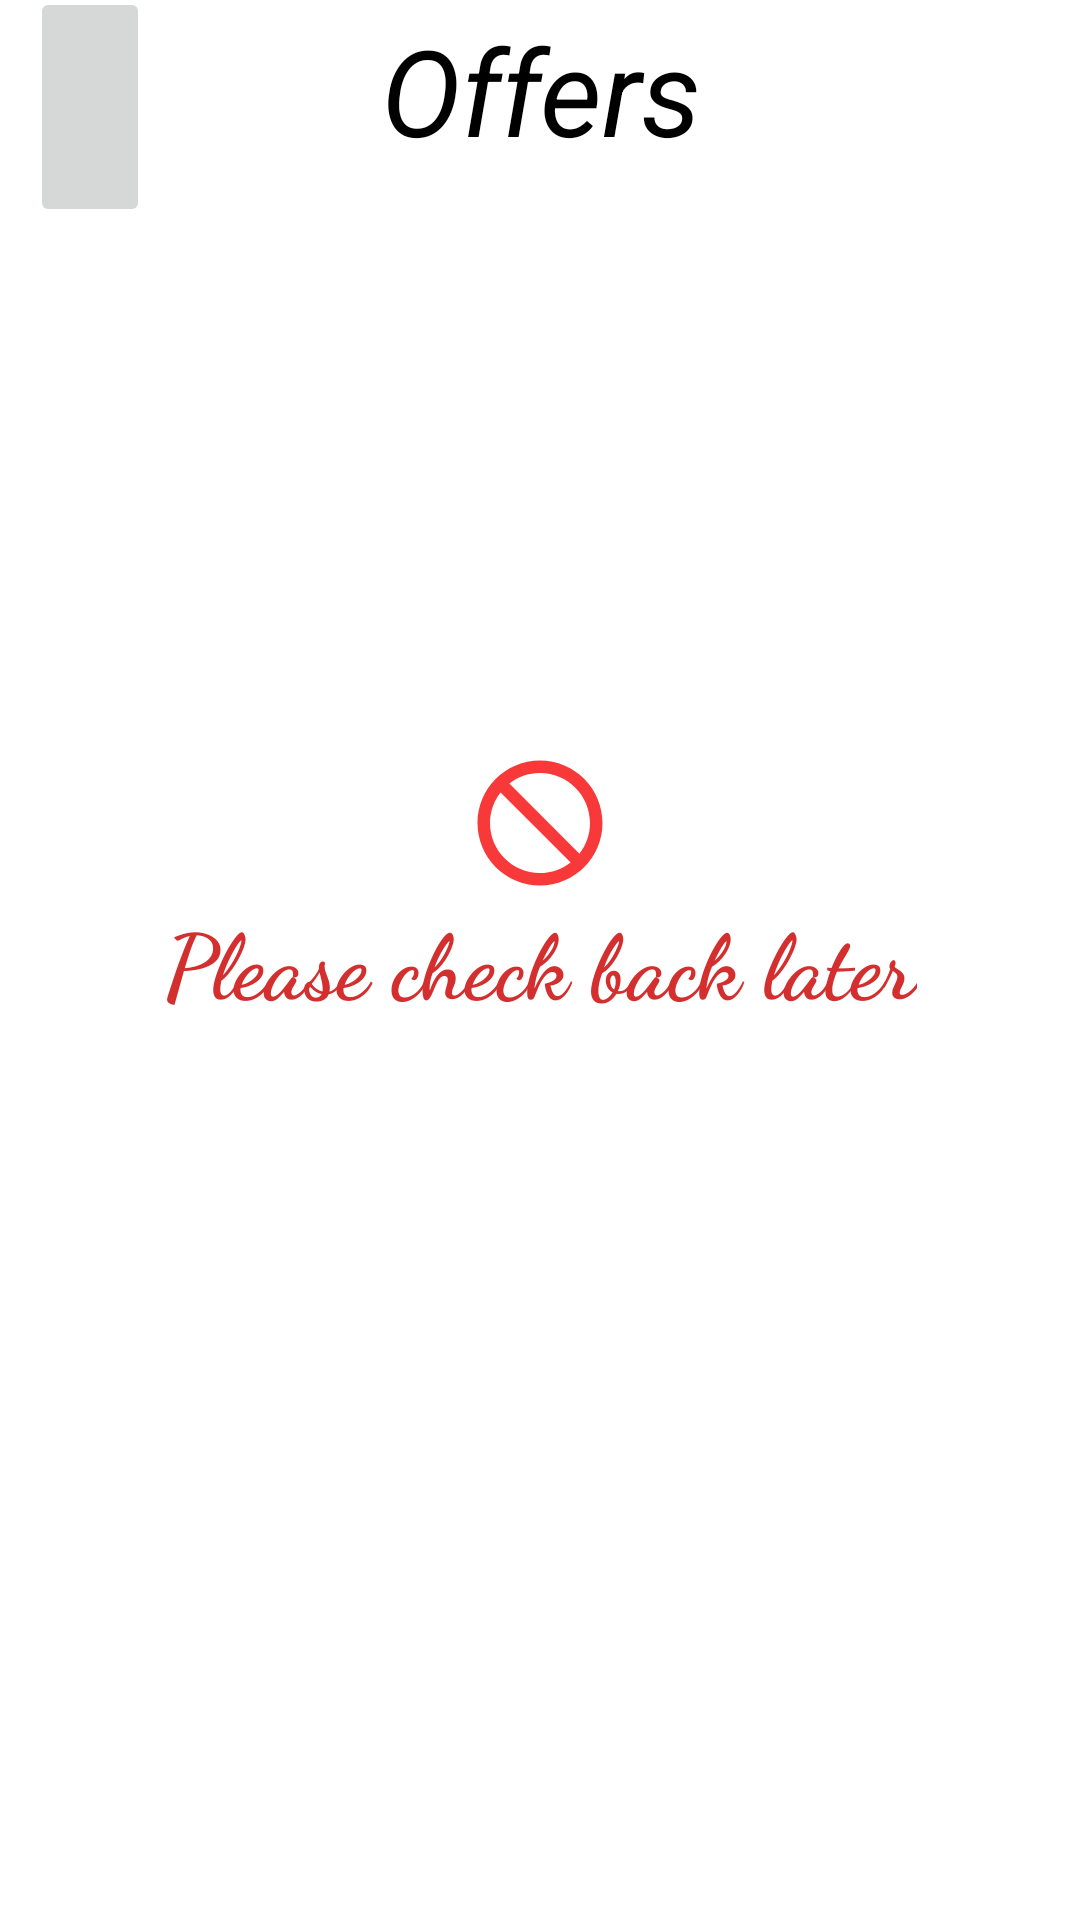

Locate icon controls on the screen. Image size 1080x1920, boxes as {"left": x1, "top": y1, "right": x2, "bottom": y2}.
not interested: {"left": 477, "top": 760, "right": 603, "bottom": 886}
